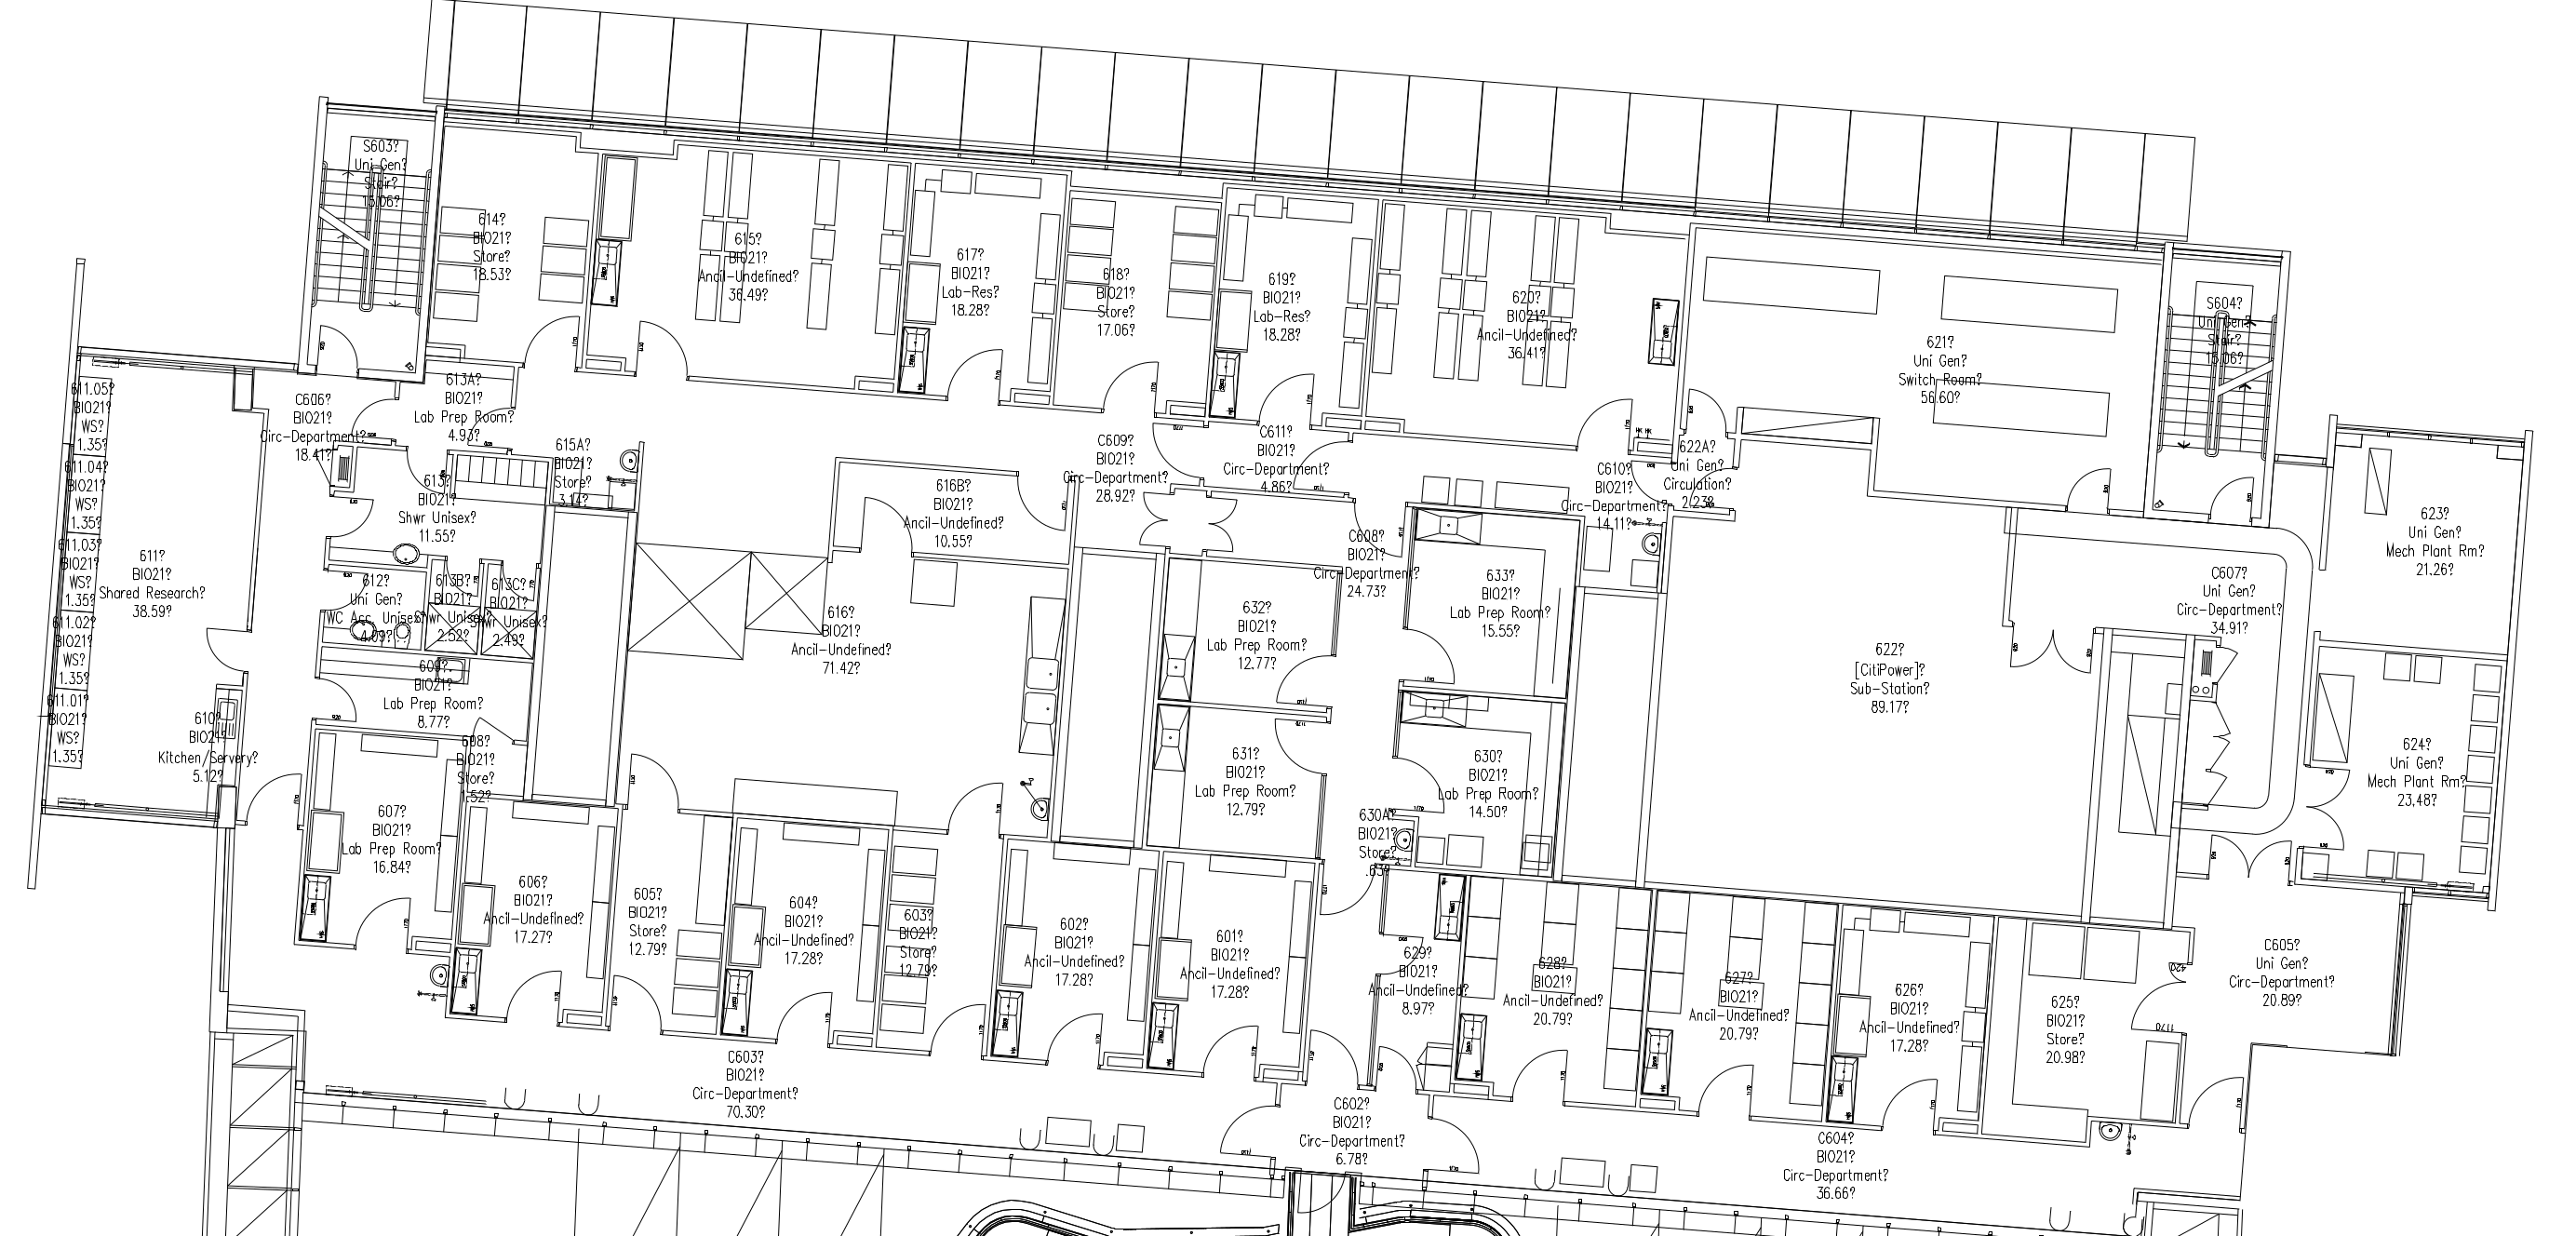text: (1829, 638, 1963, 740), (311, 794, 458, 883), (1893, 307, 1993, 432), (1186, 733, 1306, 830), (1424, 730, 1546, 825), (751, 876, 859, 983), (138, 699, 273, 784), (1280, 1085, 1418, 1164), (1175, 915, 1285, 1014), (258, 378, 373, 472), (1470, 284, 1589, 375), (695, 217, 800, 317), (2362, 722, 2471, 817), (1447, 560, 1557, 654), (100, 539, 215, 626), (1309, 519, 1424, 605), (897, 472, 1007, 560), (1055, 424, 1178, 503), (1684, 963, 1791, 1050), (1561, 450, 1668, 537), (2172, 560, 2292, 638), (314, 567, 419, 653), (1502, 948, 1602, 1037), (1858, 978, 1958, 1065), (407, 371, 517, 450), (1022, 909, 1125, 993), (1773, 1129, 1893, 1201), (1207, 593, 1314, 674), (2228, 939, 2341, 1014), (1219, 419, 1336, 491), (1365, 937, 1460, 1024), (2185, 274, 2262, 380), (501, 866, 587, 957), (2384, 505, 2479, 585), (779, 606, 894, 672), (383, 657, 481, 730), (933, 242, 1015, 325), (531, 427, 611, 511), (1658, 426, 1737, 511), (394, 472, 485, 544), (473, 570, 549, 654), (876, 889, 946, 978), (1244, 270, 1316, 352), (347, 133, 417, 217), (1344, 799, 1416, 879), (2036, 991, 2095, 1083), (1083, 265, 1152, 342), (419, 570, 478, 657), (460, 201, 519, 288), (628, 876, 678, 960)
